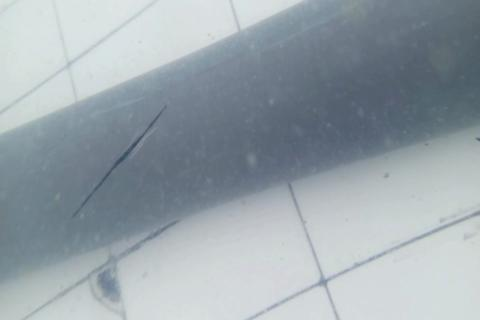keretakan: (70, 103, 168, 219)
